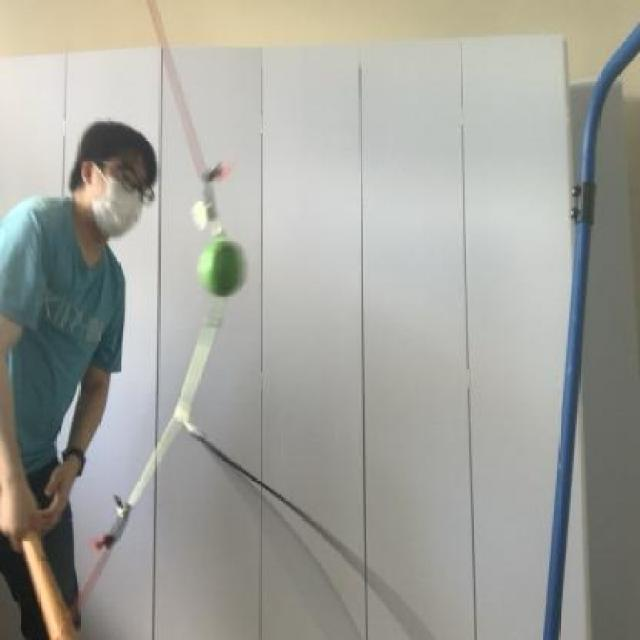baseball: (200, 236, 251, 298)
